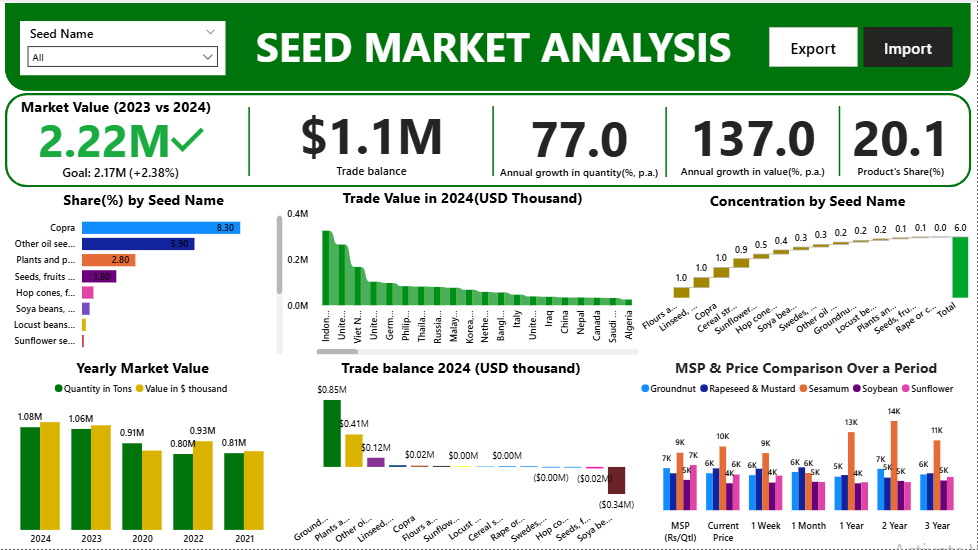

The dashboard page shown, as its layout file describes it:
{"tool":"powerbi","page":{"name":"Page 1","canvas":[1280,720],"ordinal":0},"visuals":[{"type":"shape","box":[7.1,5.7,1264.4,115.1],"z":0},{"type":"slicer","fields":{"Values":["Product_Slicer.Product Label"]},"box":[25.6,28.4,268.5,71],"z":1000},{"type":"clusteredColumnChart","title":"MSP & Price Comparison Over a Period","fields":{"Category":["Wholesale_MandiPrices.Attribute"],"Y":["Sum(Wholesale_MandiPrices.Value)"],"Series":["Wholesale_MandiPrices.Commodity"]},"box":[834.2,470.4,443.1,250.3],"z":2000},{"type":"clusteredColumnChart","title":"Yearly Market Value","fields":{"Category":["TradeMapYearwise.Year"],"Series":["TradeMapYearwise.Attribute"],"Y":["Sum(TradeMapYearwise.Value)"]},"box":[0,470.2,373.6,250],"z":3000},{"type":"ribbonChart","title":"Trade Value in 2024(USD Thousand)","fields":{"Category":["Importers (TradeMap_export_country).Countries"],"Y":["Sum(Importers (TradeMap_export_country).Trade Value in 2024(USD Thousand))"]},"box":[376,247,460.1,218.5],"z":4000},{"type":"lineStackedColumnComboChart","title":"Trade balance 2024 (USD thousand) ","fields":{"Category":["ImportExport.Product Label"],"Y":["Sum(ImportExport.Trade balance 2024 (USD thousand))"]},"box":[376.5,470.2,453.2,250],"z":5000},{"type":"barChart","title":"Share(%) by Seed Name","fields":{"Category":["ImportExport.Product Label"],"Y":["Sum(ImportExport.Share(%))"],"Series":["ImportExport.Product Label"]},"box":[1.4,250,373.6,220.2],"z":6000},{"type":"advancedSlicerVisual","fields":{"Values":["TradeType_Slicer.TradeType"]},"box":[1007.2,36.9,241.5,52.6],"z":7000},{"type":"waterfallChart","title":"Concentration by Seed Name","fields":{"Category":["ImportExport.Product Label"],"Y":["Sum(ImportExport.Concentration)"]},"box":[836.7,251.7,441.7,196.7],"z":8000},{"type":"shape","box":[6.7,123.3,1265,123.3],"z":9000},{"type":"card","fields":{"Values":["Sum(ImportExport.Annual growth in quantity 2020-2024 (%, p.a.))"]},"box":[653.3,126.7,210,120],"z":10000},{"type":"card","fields":{"Values":["Sum(ImportExport.Annual growth in value between 2023-2024 (%, p.a.))"]},"box":[880,126.7,211.7,118.3],"z":11000},{"type":"card","fields":{"Values":["Sum(ImportExport.Share(%))"]},"box":[1103.3,126.7,151.7,118.3],"z":12000},{"type":"card","fields":{"Values":["Sum(ImportExport.Trade balance 2024 (USD thousand))"]},"box":[336.7,125,300,120],"z":13000},{"type":"shape","box":[246.7,141.7,160,90],"z":15000},{"type":"shape","box":[565,140,160,91.7],"z":16000},{"type":"shape","box":[791.7,141.7,160,91.7],"z":17000},{"type":"shape","box":[1020,140,158.3,91.7],"z":18000},{"type":"textbox","box":[329.6,19.1,646.8,86.2],"z":19000},{"type":"kpi","title":"Market Value (2023 vs 2024)","fields":{"Indicator":["TradeMapYearwise.Value2024"],"Goal":["TradeMapYearwise.Value2023"],"TrendLine":["TradeMapYearwise.Year"]},"box":[21.7,128.3,271.7,115],"z":20000}]}

Visuals, with their boxes in screenshot pixels (x1, y1, x2, y2), scaled from the page's 1280x720 canvas onto the 978x550 screenshot:
shape: detection(5, 4, 972, 92)
slicer - Product_Slicer.Product Label: detection(20, 22, 225, 76)
"MSP & Price Comparison Over a Period" clusteredColumnChart: detection(637, 359, 976, 549)
"Yearly Market Value" clusteredColumnChart: detection(0, 359, 285, 549)
"Trade Value in 2024(USD Thousand)" ribbonChart: detection(287, 189, 639, 356)
"Trade balance 2024 (USD thousand) " lineStackedColumnComboChart: detection(288, 359, 634, 549)
"Share(%) by Seed Name" barChart: detection(1, 191, 287, 359)
advancedSlicerVisual - TradeType_Slicer.TradeType: detection(770, 28, 954, 68)
"Concentration by Seed Name" waterfallChart: detection(639, 192, 977, 343)
shape: detection(5, 94, 972, 188)
card - Sum(ImportExport.Annual growth in quantity 2020-2024 (%, p.a.)): detection(499, 97, 660, 188)
card - Sum(ImportExport.Annual growth in value between 2023-2024 (%, p.a.)): detection(672, 97, 834, 187)
card - Sum(ImportExport.Share(%)): detection(843, 97, 959, 187)
card - Sum(ImportExport.Trade balance 2024 (USD thousand)): detection(257, 95, 486, 187)
shape: detection(188, 108, 311, 177)
shape: detection(432, 107, 554, 177)
shape: detection(605, 108, 727, 178)
shape: detection(779, 107, 900, 177)
textbox: detection(252, 15, 746, 80)
"Market Value (2023 vs 2024)" kpi: detection(17, 98, 224, 186)
